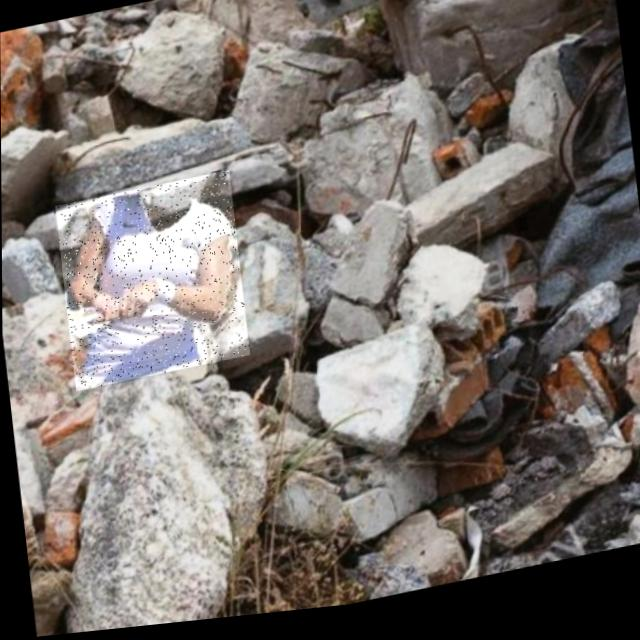Person in Rubble: (54, 173, 249, 394)
